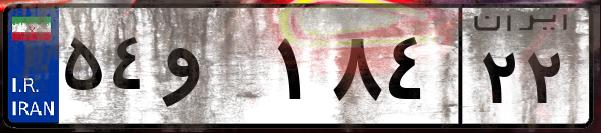1: (270, 28, 330, 110)
2: (475, 38, 525, 113), (525, 38, 570, 115)
4: (385, 28, 445, 110), (110, 28, 158, 98)
5: (57, 26, 110, 100)
8: (330, 28, 385, 110)
و: (158, 20, 270, 120)
